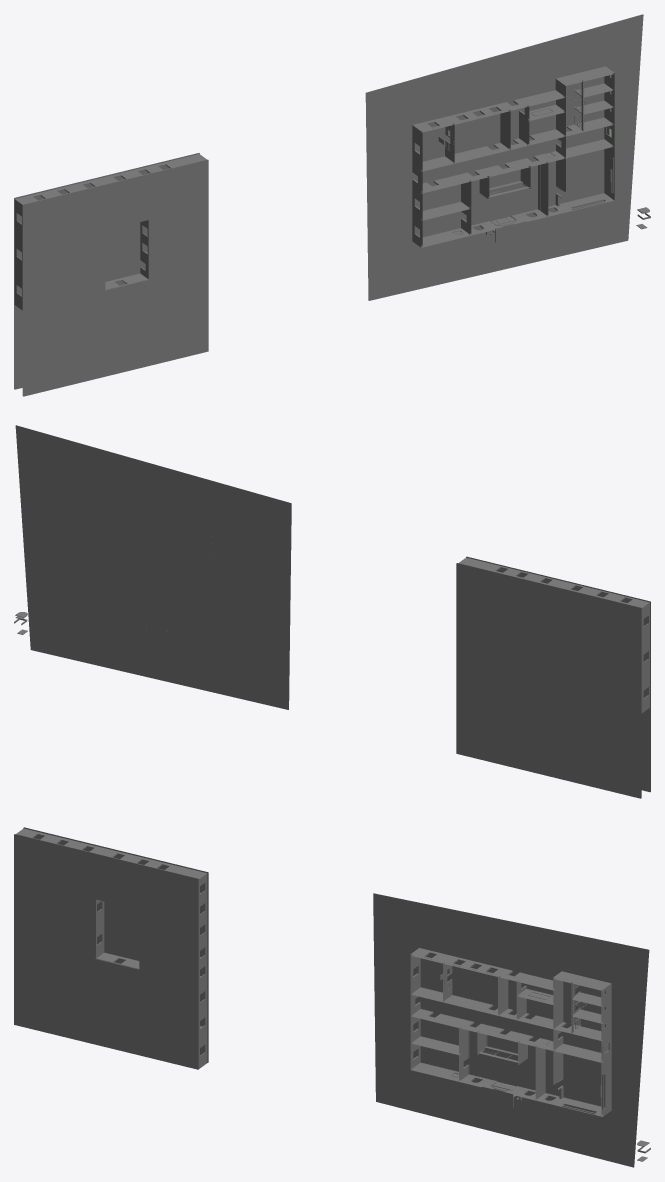
The model's file is Centro di Ricerca (U).fbx.
3 views of the same model, one above another, from view 1: azimuth 30°, elevation 25°; view 2: azimuth 150°, elevation 25°; view 3: azimuth 330°, elevation 25° (orthographic).
Parts seen in each view (by area): view 1: Oggetto_5_2, Oggetto_1, Oggetto_16, Oggetto_23, Oggetto_19_8, Oggetto_2_2_2_2, Oggetto_163, Oggetto_169, Oggetto_178, Oggetto_166, Oggetto_3, Oggetto_106 (+3 smaller); view 2: Oggetto_3_10, Oggetto_15, Oggetto_23, Oggetto_3; view 3: Oggetto_5_2, Oggetto_1, Oggetto_23, Oggetto_16, Oggetto_19_8, Oggetto_2_2_2_2, Oggetto_163, Oggetto_169, Oggetto_166, Oggetto_178, Oggetto_106, Oggetto_161_2_7_2 (+1 smaller).
Boxes of the visible parts, box(x1,y1,x2,y2) form: Oggetto_5_2: box(366, 14, 643, 300); Oggetto_1: box(23, 160, 208, 396); Oggetto_16: box(14, 153, 199, 389); Oggetto_23: box(14, 154, 206, 310); Oggetto_19_8: box(421, 139, 613, 193); Oggetto_2_2_2_2: box(421, 117, 613, 171); Oggetto_163: box(421, 193, 613, 247); Oggetto_169: box(413, 90, 564, 132); Oggetto_178: box(412, 125, 422, 247); Oggetto_166: box(604, 73, 614, 200); Oggetto_3: box(22, 159, 207, 395); Oggetto_106: box(556, 85, 565, 191); Oggetto_3_10: box(15, 425, 291, 709); Oggetto_15: box(456, 563, 640, 798); Oggetto_23: box(458, 557, 649, 713); Oggetto_3: box(466, 557, 650, 792); Oggetto_5_2: box(373, 894, 648, 1167); Oggetto_1: box(14, 834, 198, 1069); Oggetto_23: box(16, 828, 207, 1068); Oggetto_16: box(23, 827, 207, 1062); Oggetto_19_8: box(411, 1009, 602, 1062); Oggetto_2_2_2_2: box(411, 987, 602, 1041); Oggetto_163: box(411, 1063, 602, 1116); Oggetto_169: box(411, 948, 554, 990); Oggetto_166: box(601, 983, 611, 1116); Oggetto_178: box(410, 954, 420, 1069); Oggetto_106: box(553, 979, 562, 1084); Oggetto_161_2_7_2: box(535, 1045, 545, 1099).
Size of the model in its own units: 154 by 51.71 by 4.52.
